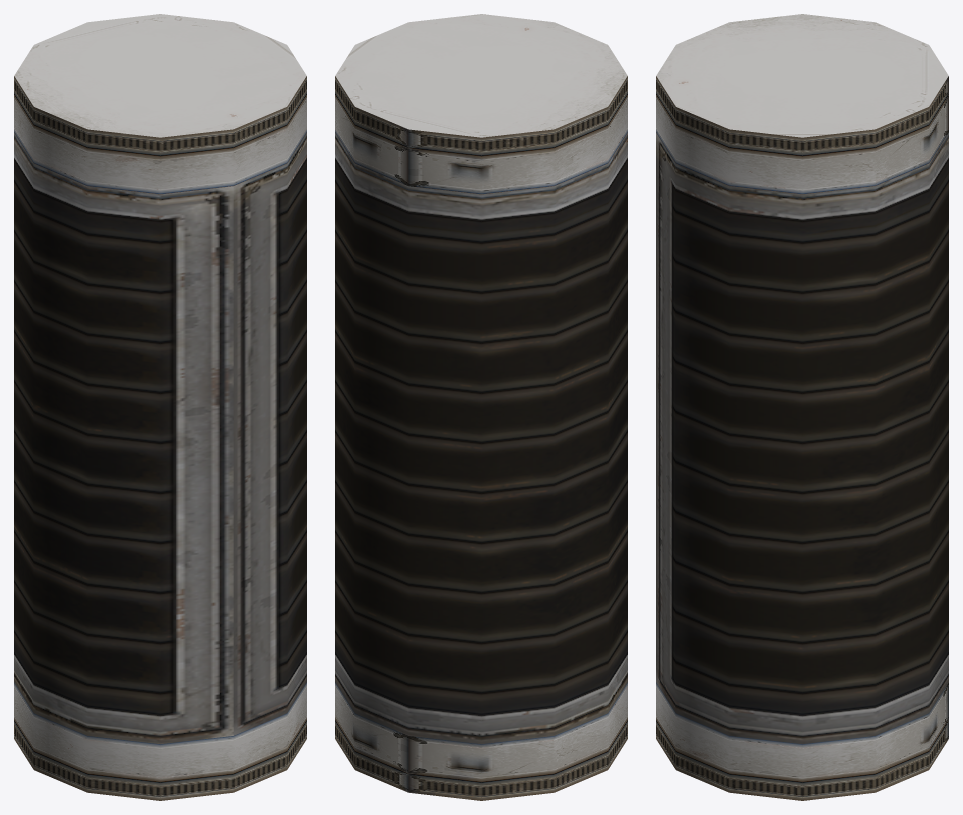
The model's file is scifi_pipe_large_3.FBX.
The picture shows the model from 3 angles, left to right: view 1: azimuth 30°, elevation 25°; view 2: azimuth 150°, elevation 25°; view 3: azimuth 270°, elevation 25°; orthographic projection.
Parts seen in each view (by area): view 1: Cylinder009; view 2: Cylinder009; view 3: Cylinder009.
Boxes of the visible parts, left/top/right/bottom form: Cylinder009: left=14, top=14, right=306, bottom=800; Cylinder009: left=335, top=14, right=627, bottom=800; Cylinder009: left=656, top=14, right=948, bottom=800.
Bounding box in the file's own units: 102 × 254 × 102.
